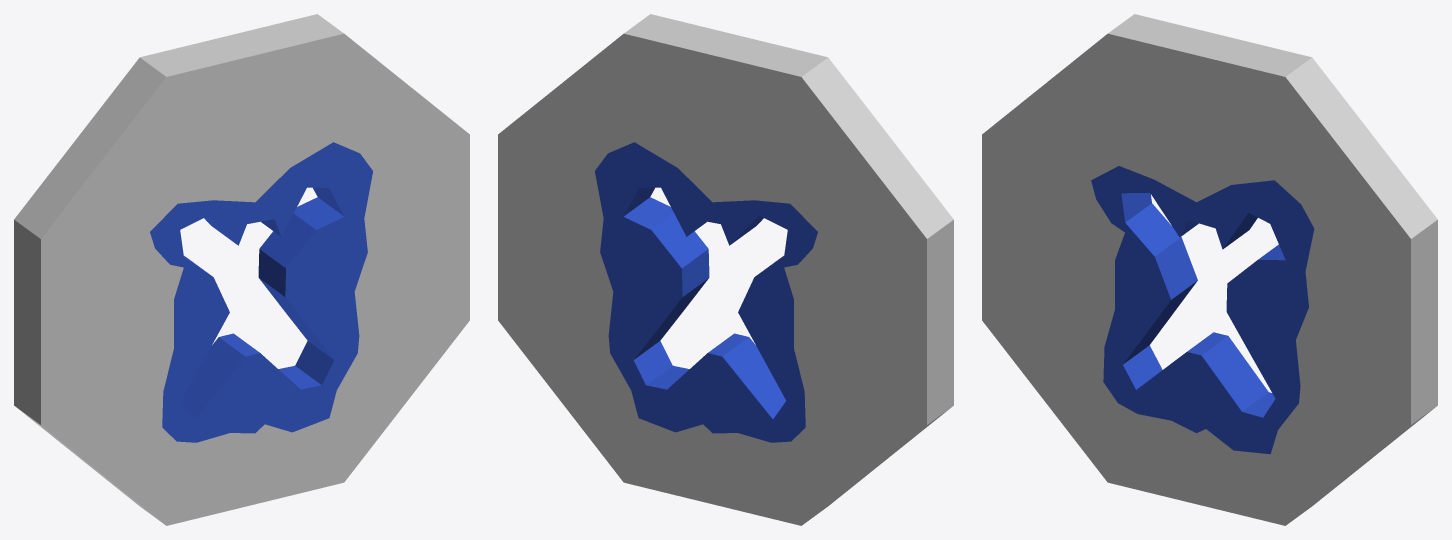
The model's file is wall_X.fbx.
3 views of the same model, side by side, from view 1: azimuth 30°, elevation 25°; view 2: azimuth 150°, elevation 25°; view 3: azimuth 330°, elevation 25° (orthographic).
Visible parts, largest first — view 1: wall_x_solid1, wall_x_solid2, wall_x_solid4, wall_x_solid3, wall_x_break4, wall_x_break5, wall_x_break7, wall_x_break6, wall_x_break9, wall_x_break3, wall_x_break1, wall_x_break2 (+2 smaller); view 2: wall_x_solid1, wall_x_solid2, wall_x_solid4, wall_x_solid3, wall_x_break4, wall_x_break5, wall_x_break7, wall_x_break6, wall_x_break9, wall_x_break3, wall_x_break1, wall_x_break2 (+2 smaller); view 3: wall_x_solid2, wall_x_solid1, wall_x_solid3, wall_x_solid4, wall_x_break6, wall_x_break9, wall_x_break4, wall_x_break10, wall_x_break5, wall_x_break3, wall_x_break7, wall_x_break1 (+2 smaller).
Part boxes in pixels (left/top/right/bottom): wall_x_solid1: left=14, top=35, right=255, bottom=331; wall_x_solid2: left=229, top=14, right=469, bottom=252; wall_x_solid4: left=14, top=299, right=255, bottom=525; wall_x_solid3: left=255, top=227, right=469, bottom=504; wall_x_break4: left=258, top=197, right=367, bottom=297; wall_x_break5: left=259, top=278, right=359, bottom=422; wall_x_break7: left=182, top=337, right=255, bottom=442; wall_x_break6: left=219, top=333, right=321, bottom=432; wall_x_break9: left=163, top=288, right=229, bottom=400; wall_x_break3: left=298, top=142, right=372, bottom=218; wall_x_break1: left=150, top=200, right=255, bottom=245; wall_x_break2: left=247, top=163, right=306, bottom=236; wall_x_solid1: left=712, top=35, right=953, bottom=331; wall_x_solid2: left=498, top=14, right=738, bottom=252; wall_x_solid4: left=712, top=299, right=953, bottom=525; wall_x_solid3: left=498, top=227, right=712, bottom=504; wall_x_break4: left=600, top=197, right=709, bottom=297; wall_x_break5: left=608, top=278, right=708, bottom=422; wall_x_break7: left=712, top=337, right=785, bottom=442; wall_x_break6: left=646, top=333, right=748, bottom=432; wall_x_break9: left=738, top=288, right=804, bottom=400; wall_x_break3: left=595, top=142, right=669, bottom=218; wall_x_break1: left=712, top=200, right=817, bottom=245; wall_x_break2: left=661, top=163, right=720, bottom=236; wall_x_solid2: left=1196, top=35, right=1437, bottom=331; wall_x_solid1: left=982, top=14, right=1222, bottom=259; wall_x_solid3: left=1196, top=307, right=1437, bottom=525; wall_x_solid4: left=982, top=227, right=1196, bottom=504; wall_x_break6: left=1187, top=332, right=1275, bottom=452; wall_x_break9: left=1104, top=251, right=1197, bottom=364; wall_x_break4: left=1226, top=244, right=1308, bottom=339; wall_x_break10: left=1091, top=180, right=1186, bottom=270; wall_x_break5: left=1227, top=312, right=1300, bottom=454; wall_x_break3: left=1239, top=180, right=1314, bottom=271; wall_x_break7: left=1136, top=352, right=1196, bottom=432; wall_x_break1: left=1091, top=166, right=1198, bottom=237.
Bounding box in the file's own units: 397 × 397 × 43.
